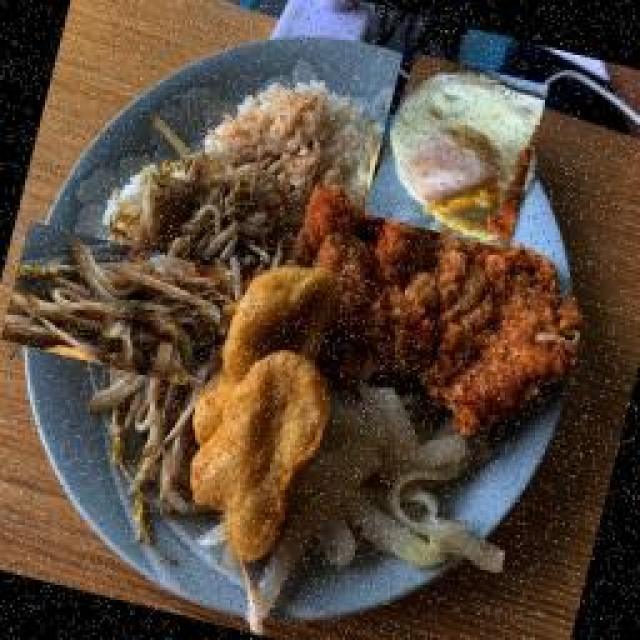chicken_nuggets: (163, 245, 358, 578)
fried_chicken: (283, 182, 603, 460)
fried_eggs: (360, 55, 553, 248)
mung_bean_sprouts: (33, 188, 296, 451)
rice: (215, 70, 380, 195)
